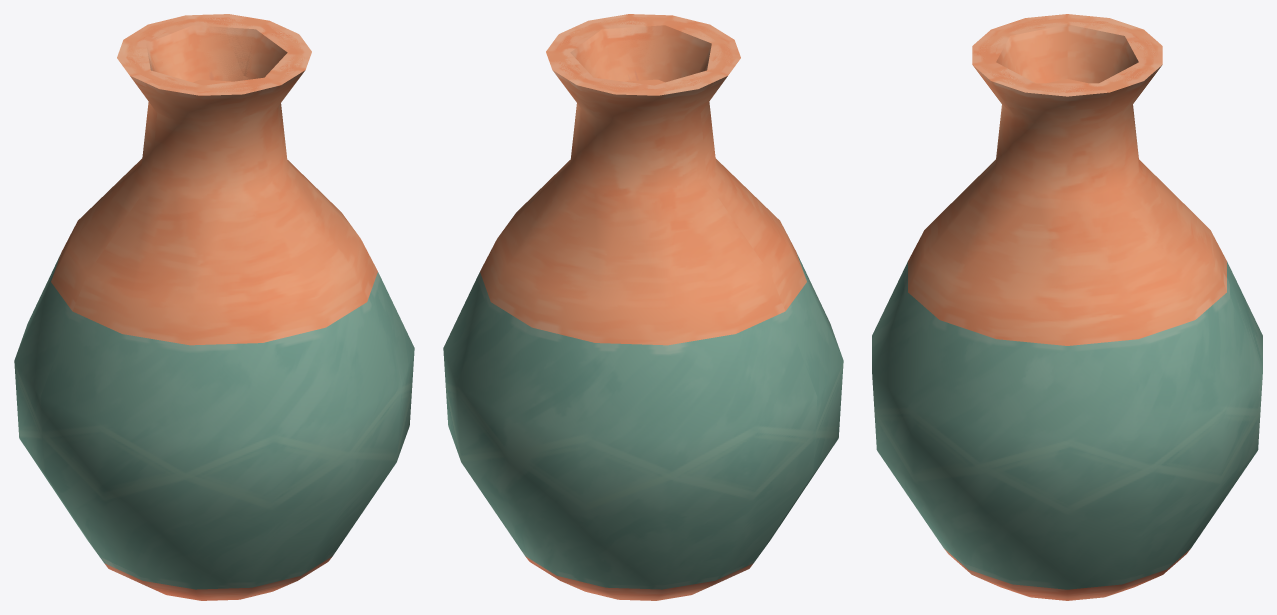
File: vase.bundle.fbx
3 renders of one model, left to right at view 1: azimuth 30°, elevation 25°; view 2: azimuth 150°, elevation 25°; view 3: azimuth 270°, elevation 25°, orthographic.
Visible parts, largest first — view 1: vase, vase_low, vase_s01, vase_s02; view 2: vase, vase_low, vase_s01; view 3: vase, vase_low.
Part boxes in pixels (<box>): vase: <box>14,14,414,600</box>; vase_low: <box>123,15,310,95</box>; vase_s01: <box>190,20,292,84</box>; vase_s02: <box>209,18,310,76</box>; vase: <box>443,14,843,600</box>; vase_low: <box>546,16,733,95</box>; vase_s01: <box>570,17,670,84</box>; vase: <box>872,14,1262,600</box>; vase_low: <box>973,14,1161,92</box>.
Size of the model in its own units: 1.64 by 2.3 by 1.6.
1 material, 1 textured.
